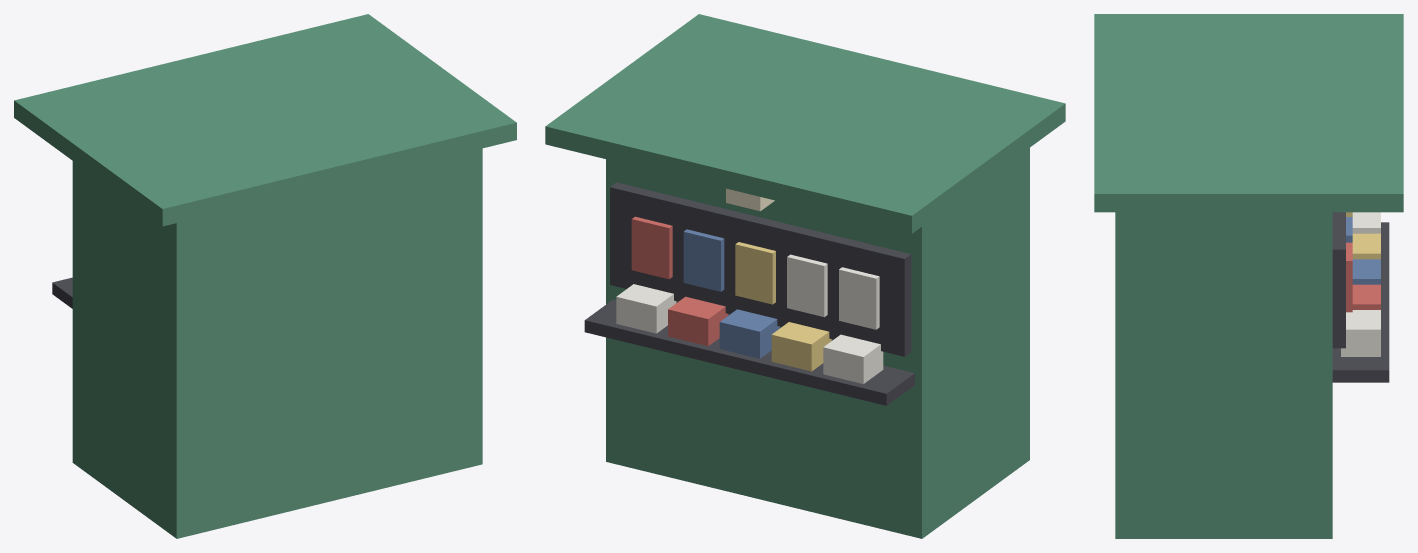
File: SM_Puesto_Periodicos.fbx
The picture shows the model from 3 angles, left to right: view 1: azimuth 30°, elevation 25°; view 2: azimuth 150°, elevation 25°; view 3: azimuth 270°, elevation 25°; orthographic projection. The views are drawn at different scales.
Visible parts, largest first — view 1: SM_Puesto_Periodicos; view 2: SM_Puesto_Periodicos; view 3: SM_Puesto_Periodicos.
Boxes of the visible parts, left/top/right/bottom form: SM_Puesto_Periodicos: left=14, top=14, right=516, bottom=538; SM_Puesto_Periodicos: left=545, top=14, right=1065, bottom=538; SM_Puesto_Periodicos: left=1094, top=14, right=1403, bottom=538.
Bounding box in the file's own units: 2.55 × 2.36 × 1.85.
